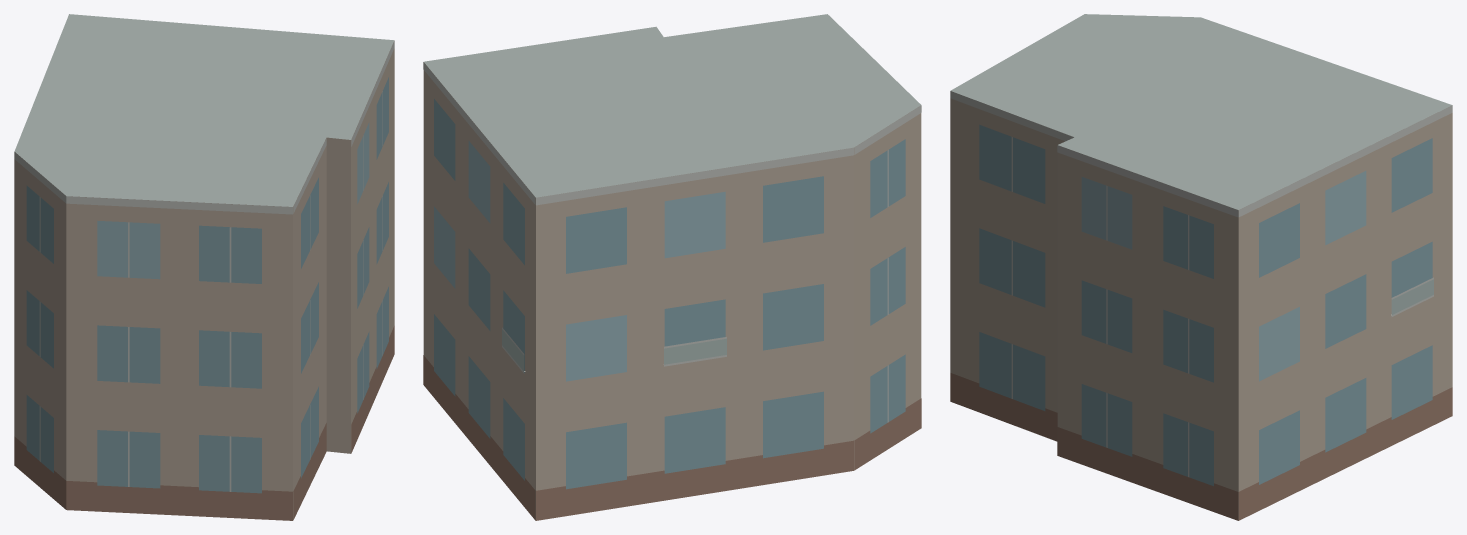
The model's file is survey-upis-32626559.glb.
The picture shows the model from 3 angles, left to right: view 1: azimuth 30°, elevation 25°; view 2: azimuth 150°, elevation 25°; view 3: azimuth 270°, elevation 25°; orthographic projection. The views are drawn at different scales.
Parts seen in each view (by area): view 1: survey-upis-32626559.tmp; view 2: survey-upis-32626559.tmp; view 3: survey-upis-32626559.tmp.
Boxes of the visible parts, x1,y1,x2,y2 form: survey-upis-32626559.tmp: (14, 14, 394, 520); survey-upis-32626559.tmp: (423, 14, 921, 520); survey-upis-32626559.tmp: (950, 14, 1452, 520).
Size of the model in its own units: 13.81 by 10.2 by 14.95.
